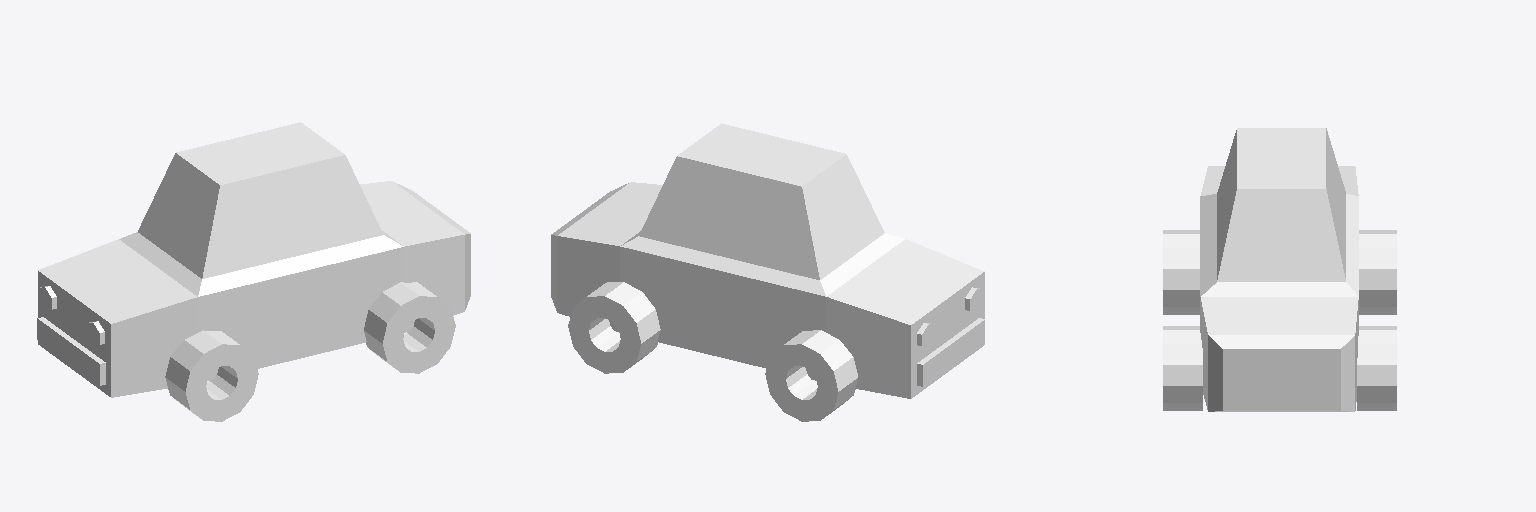
The model's file is Diego's Car.obj.
3 renders of one model, left to right at view 1: azimuth 30°, elevation 25°; view 2: azimuth 150°, elevation 25°; view 3: azimuth 270°, elevation 25°, orthographic.
Parts seen in each view (by area): view 1: Diego's Car; view 2: Diego's Car; view 3: Diego's Car.
Part boxes in pixels (x1,y1,x2,y2): Diego's Car: (37,122,470,421); Diego's Car: (551,123,984,421); Diego's Car: (1163,128,1396,411).
Size of the model in its own units: 90.47 by 46.42 by 49.21.